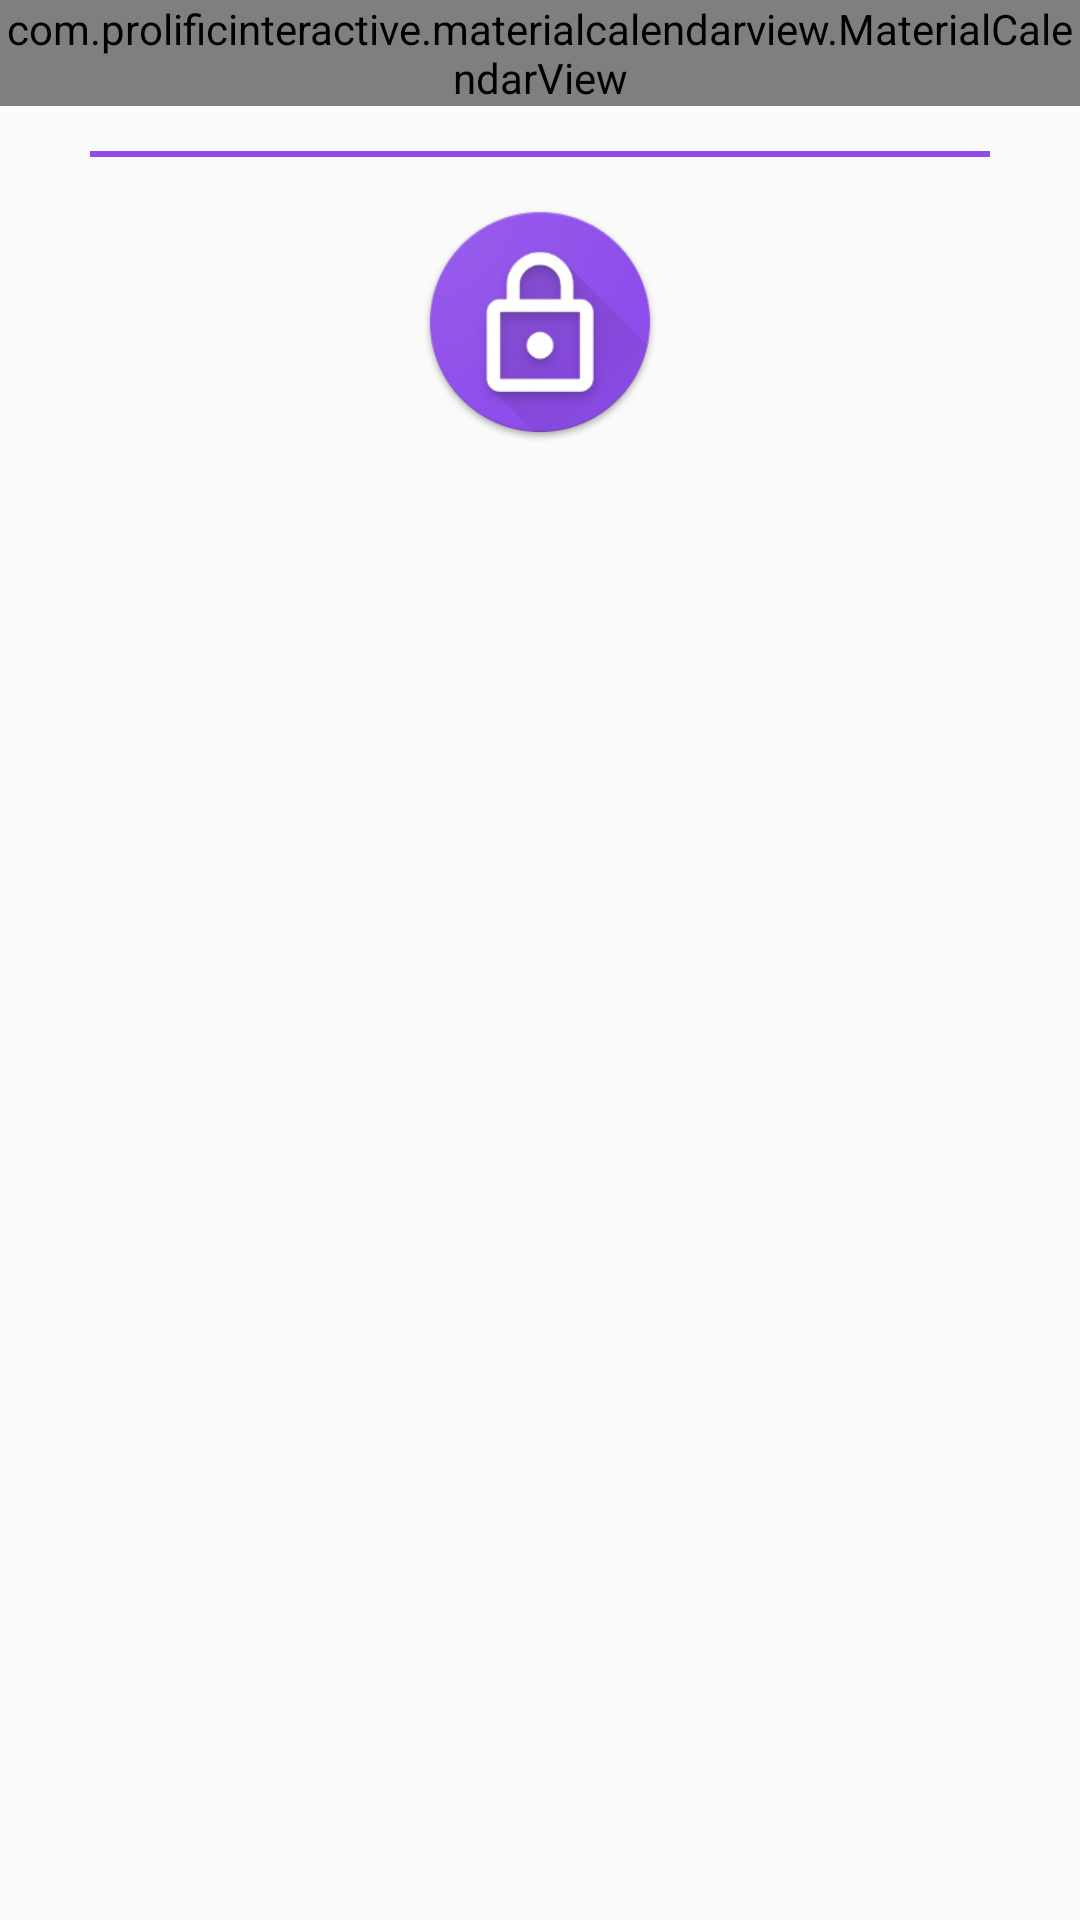

Icons on this 1080 x 1920 Android screen, each with its box as (x1, y1, x2, y2):
lock states: (428, 212, 652, 437)
